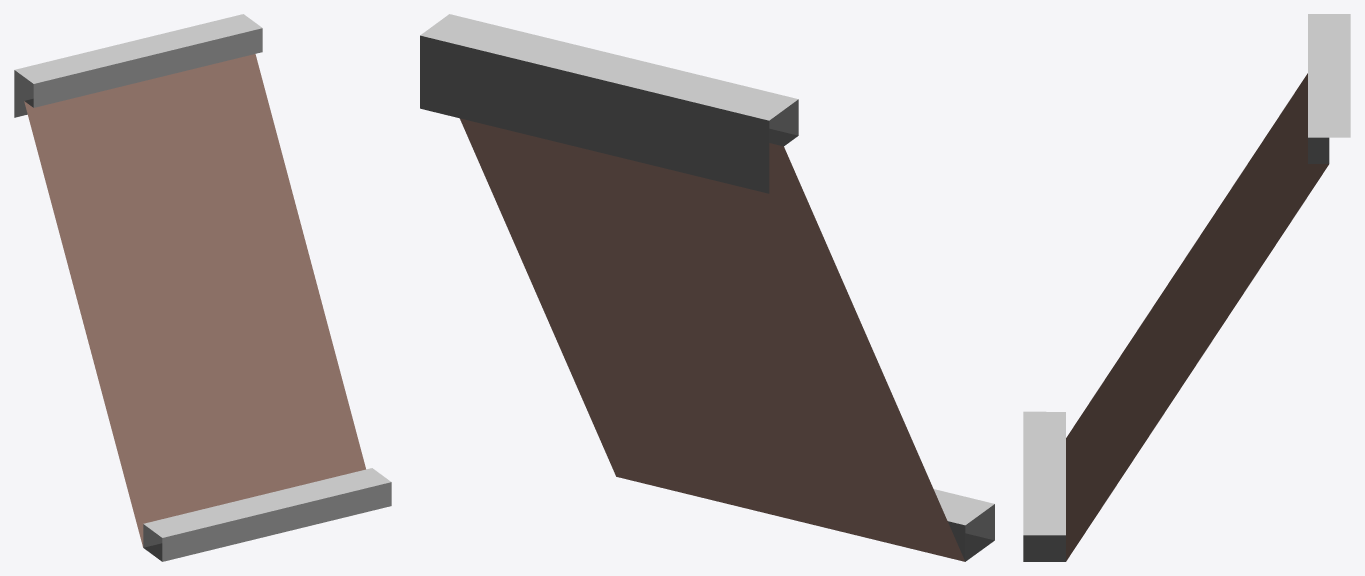
The model's file is Roof03_LightCenter02.fbx.
3 views of the same model, side by side, from view 1: azimuth 30°, elevation 25°; view 2: azimuth 150°, elevation 25°; view 3: azimuth 270°, elevation 25° (orthographic). The views are drawn at different scales.
Parts seen in each view (by area): view 1: Roof03_LightCenter02; view 2: Roof03_LightCenter02; view 3: Roof03_LightCenter02.
Part boxes in pixels (x1=…): Roof03_LightCenter02: x1=14, y1=14, x2=391, y2=561; Roof03_LightCenter02: x1=420, y1=14, x2=994, y2=561; Roof03_LightCenter02: x1=1023, y1=14, x2=1350, y2=561.
Size of the model in its own units: 0.5 by 0.8 by 0.5594.
